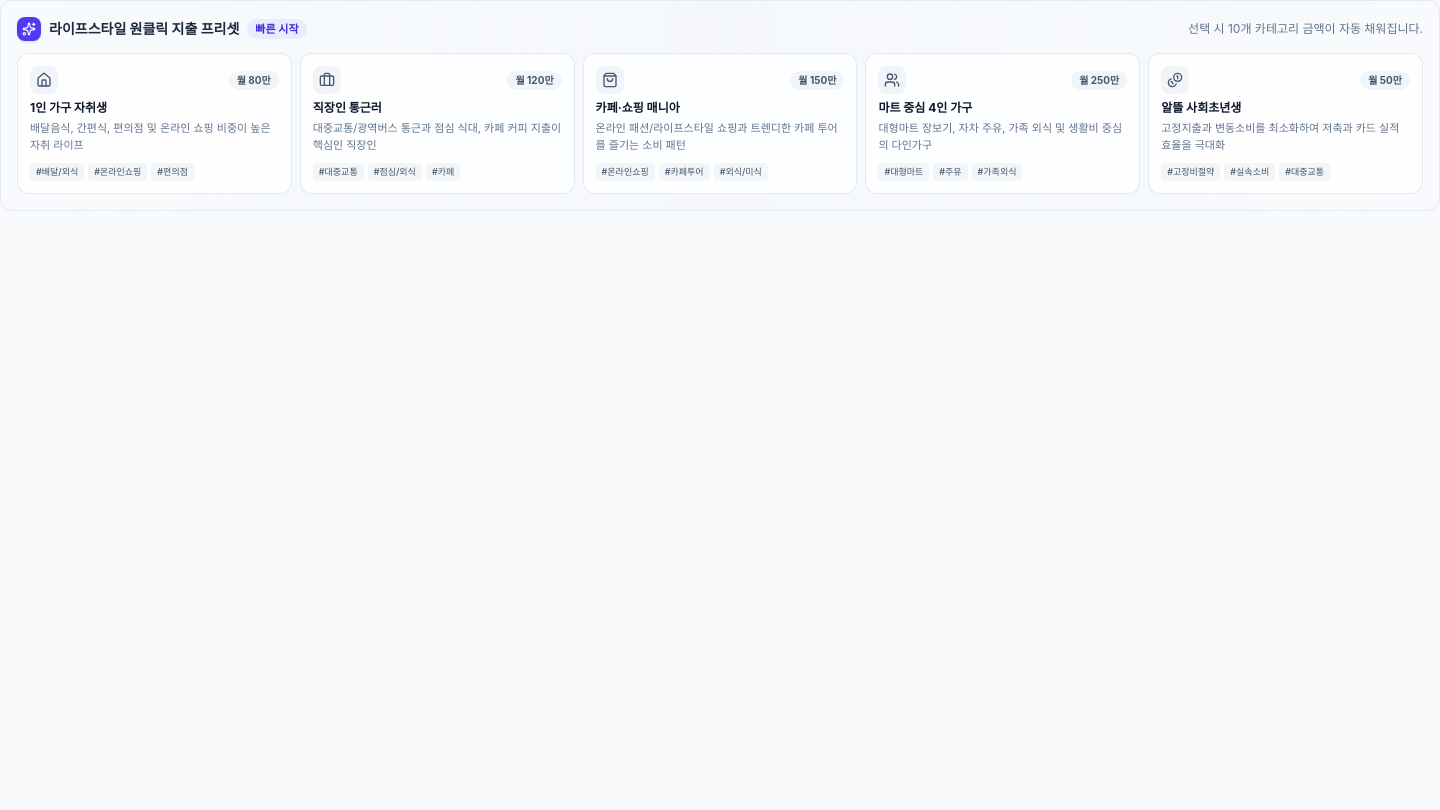
SpendingPresetSelector › 덮어쓰기 모달이 열려 있을 때 Escape 키를 누르면 모달이 닫힌다
Click the button with aria-label "카페·쇼핑 매니아 프리셋 선택".
click(720, 123)  # box [583,53,857,194]
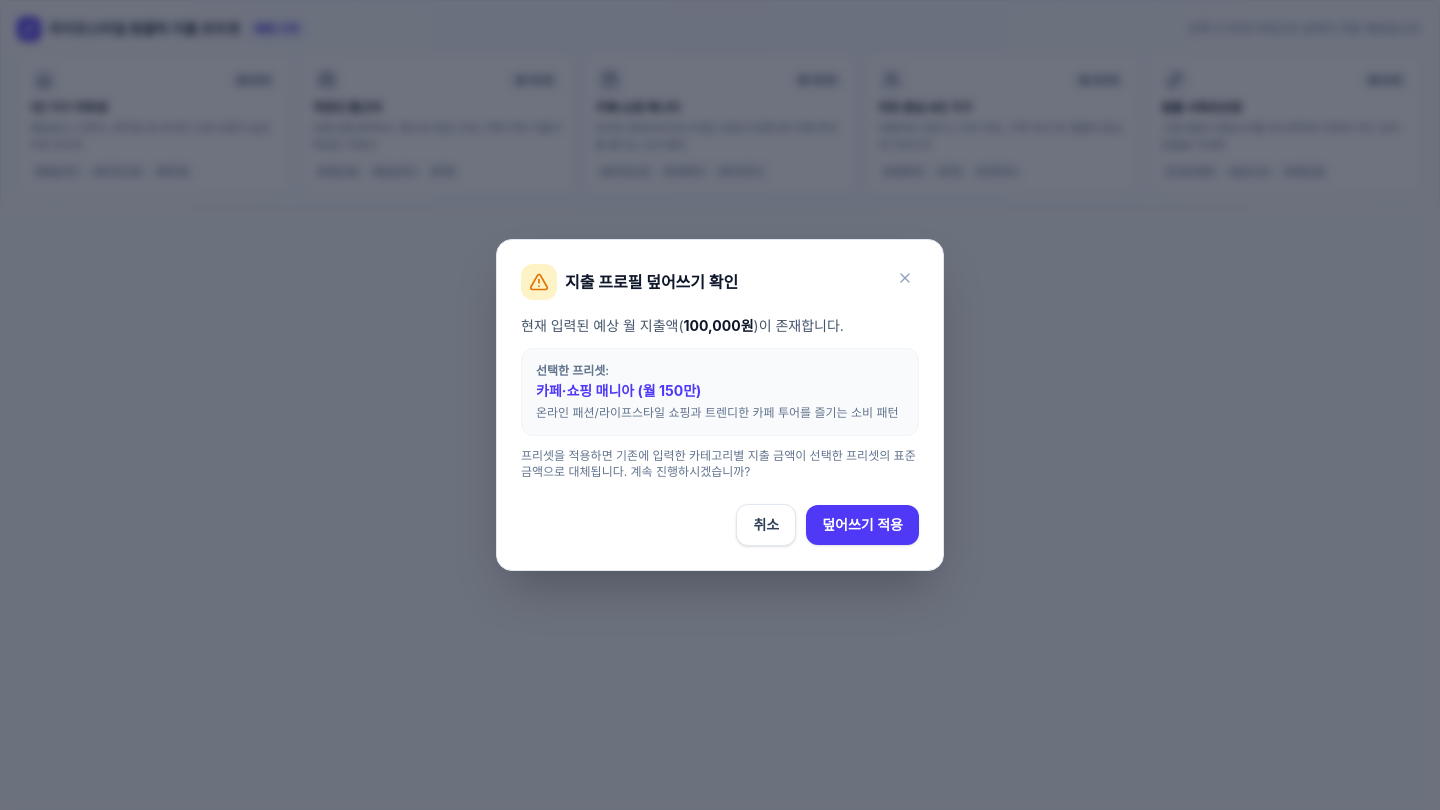
Check: the heading "지출 프로필 덮어쓰기 확인" is shown, box [565,270,738,294]
Press Escape
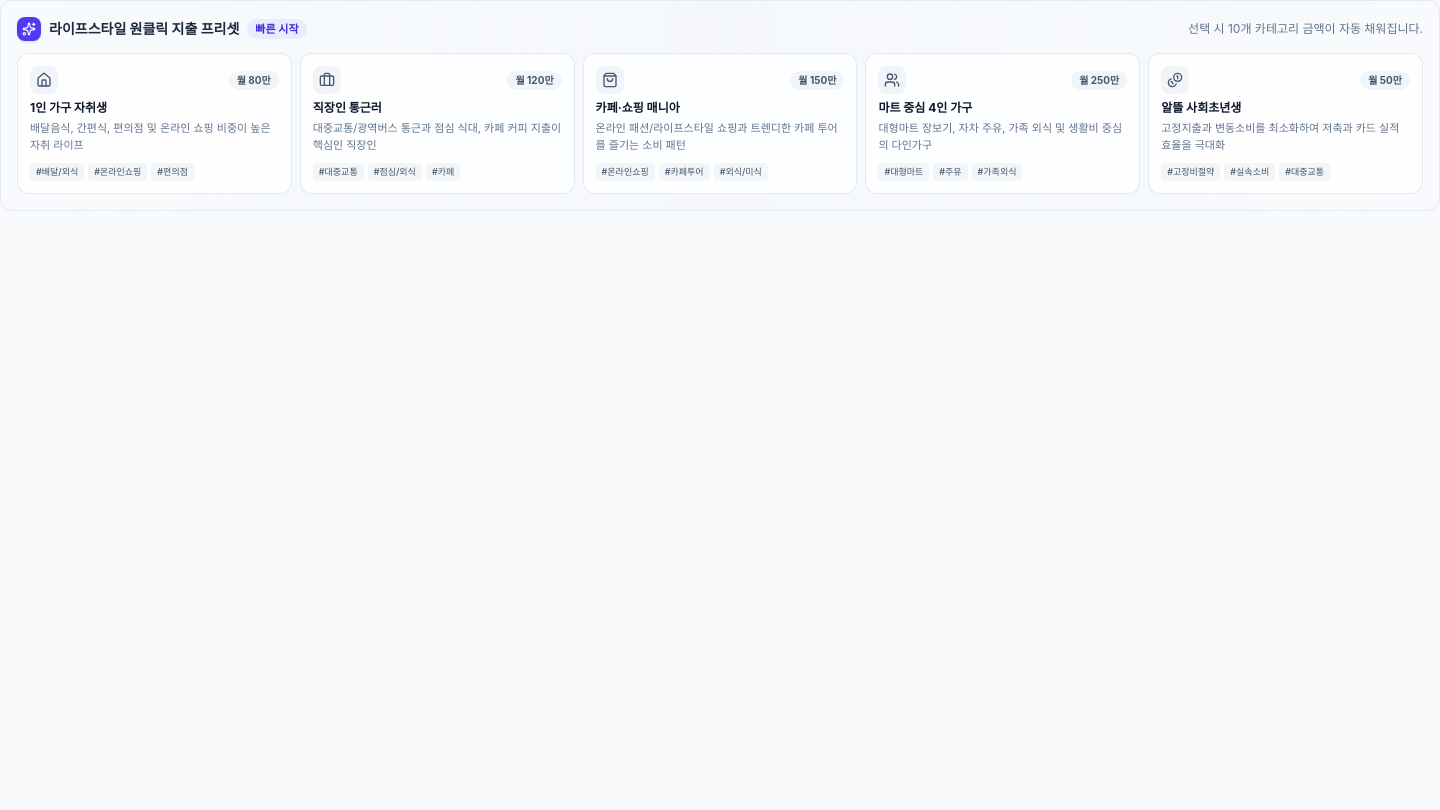
Check: the heading "지출 프로필 덮어쓰기 확인" is gone
